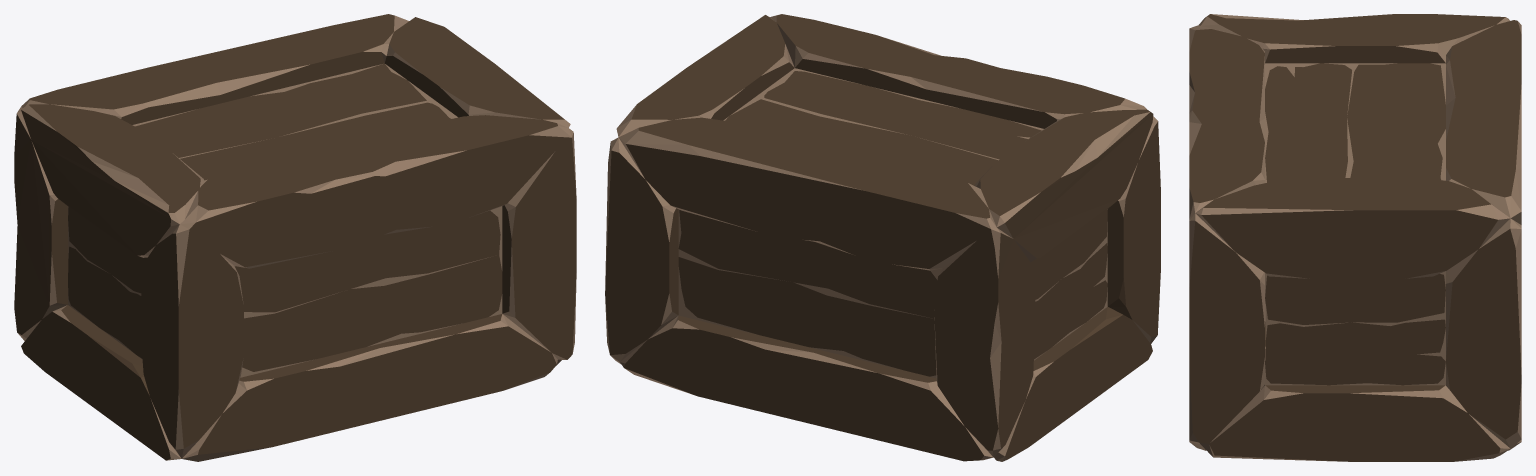
Rendered from Wooden_box_A_02.FBX.
3 renders of one model, left to right at view 1: azimuth 30°, elevation 25°; view 2: azimuth 150°, elevation 25°; view 3: azimuth 270°, elevation 25°, orthographic. The views are drawn at different scales.
Visible parts, largest first — view 1: Wooden_box_A_02; view 2: Wooden_box_A_02; view 3: Wooden_box_A_02.
Part boxes in pixels (bbox=[...]): Wooden_box_A_02: bbox=[14, 14, 576, 461]; Wooden_box_A_02: bbox=[605, 14, 1160, 461]; Wooden_box_A_02: bbox=[1189, 14, 1521, 461].
Bounding box in the file's own units: 2.83 × 1.7 × 2.03.
